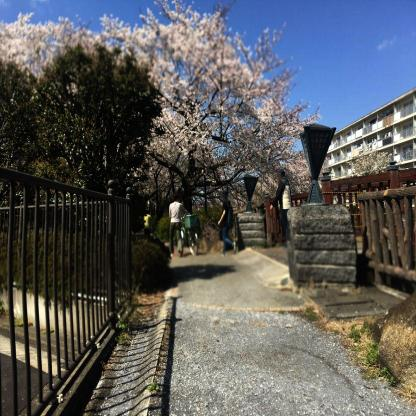Someiyoshino: (0, 0, 327, 212), (348, 141, 393, 174)
